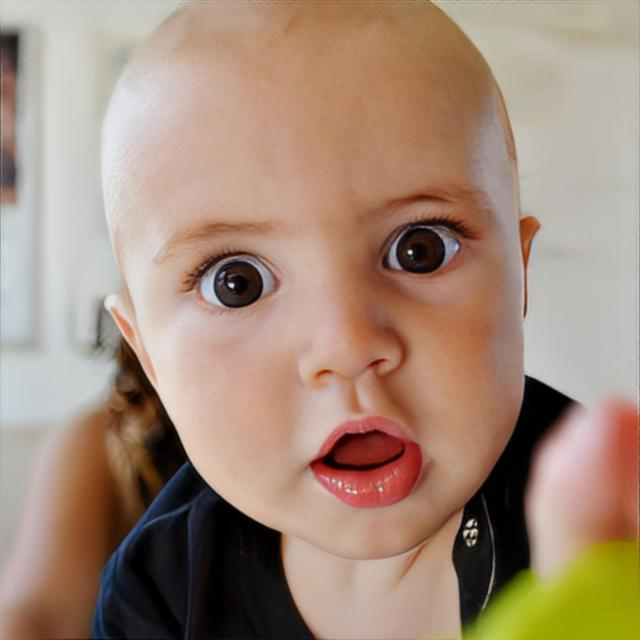surprise: (99, 0, 527, 558)
